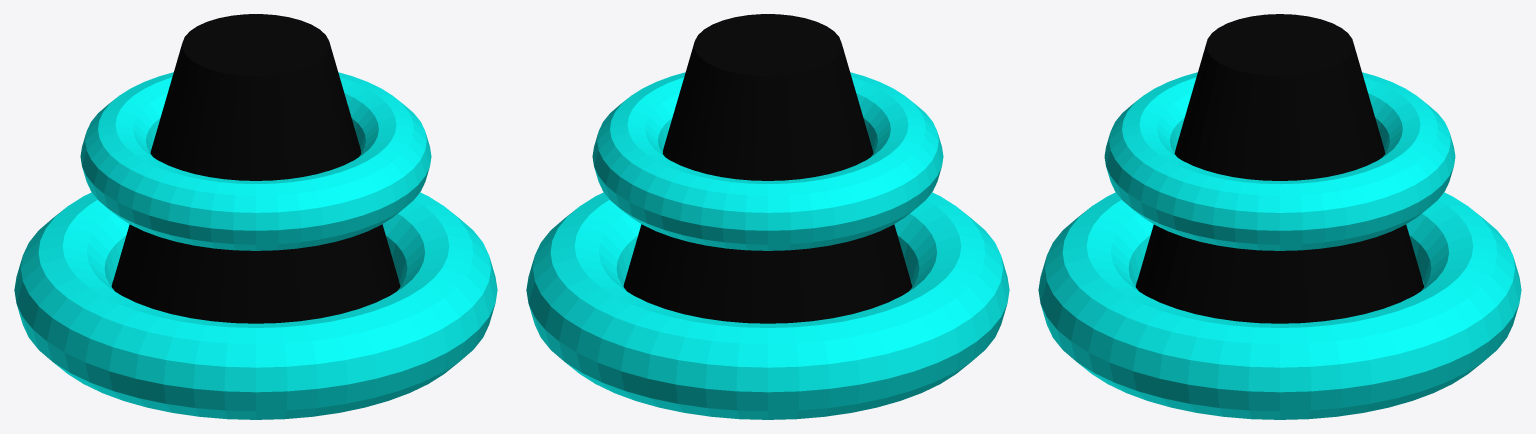
The model's file is Kek torony also.glb.
The picture shows the model from 3 angles, left to right: view 1: azimuth 30°, elevation 25°; view 2: azimuth 150°, elevation 25°; view 3: azimuth 270°, elevation 25°; orthographic projection.
Visible parts, largest first — view 1: Cylinder; view 2: Cylinder; view 3: Cylinder.
Part boxes in pixels (box(x1,y1,x2,y2)): Cylinder: box(14, 14, 497, 419); Cylinder: box(526, 14, 1009, 419); Cylinder: box(1038, 14, 1521, 419).
Size of the model in its own units: 3.12 by 2.06 by 3.12.
